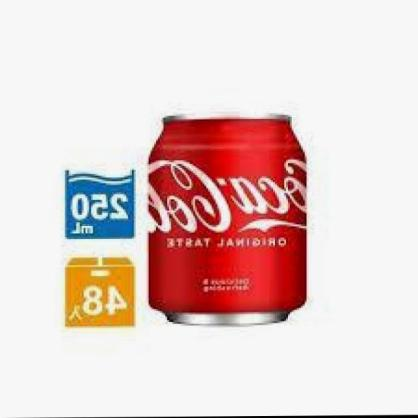can: (146, 111, 311, 328)
